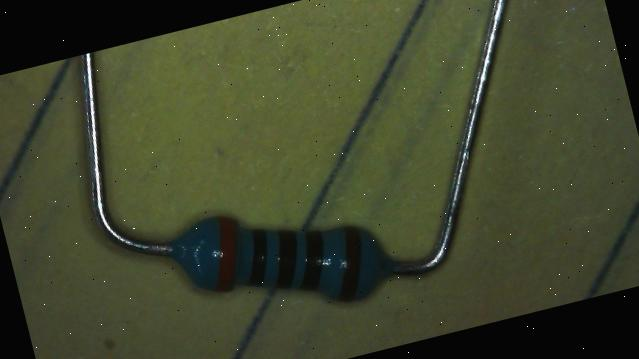black: (263, 227, 307, 289), (234, 225, 276, 288), (296, 229, 330, 287)
brown: (331, 223, 372, 299)
orange: (199, 214, 249, 292)
resistor: (147, 189, 404, 312)
